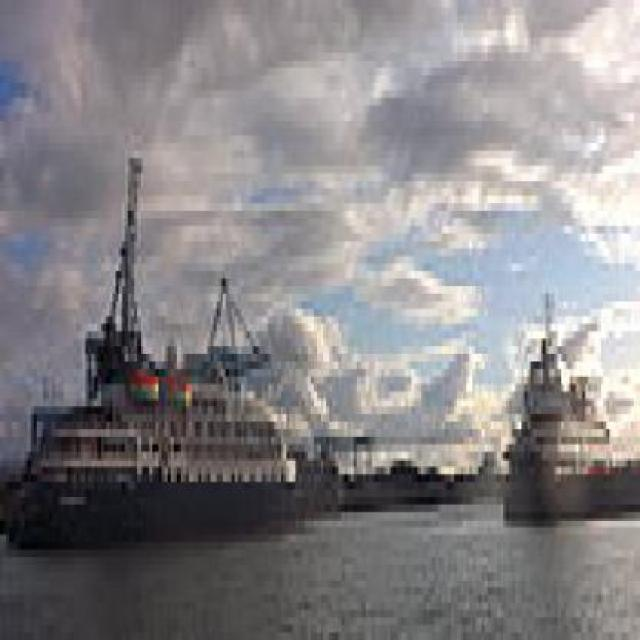cruise: (13, 309, 315, 551)
